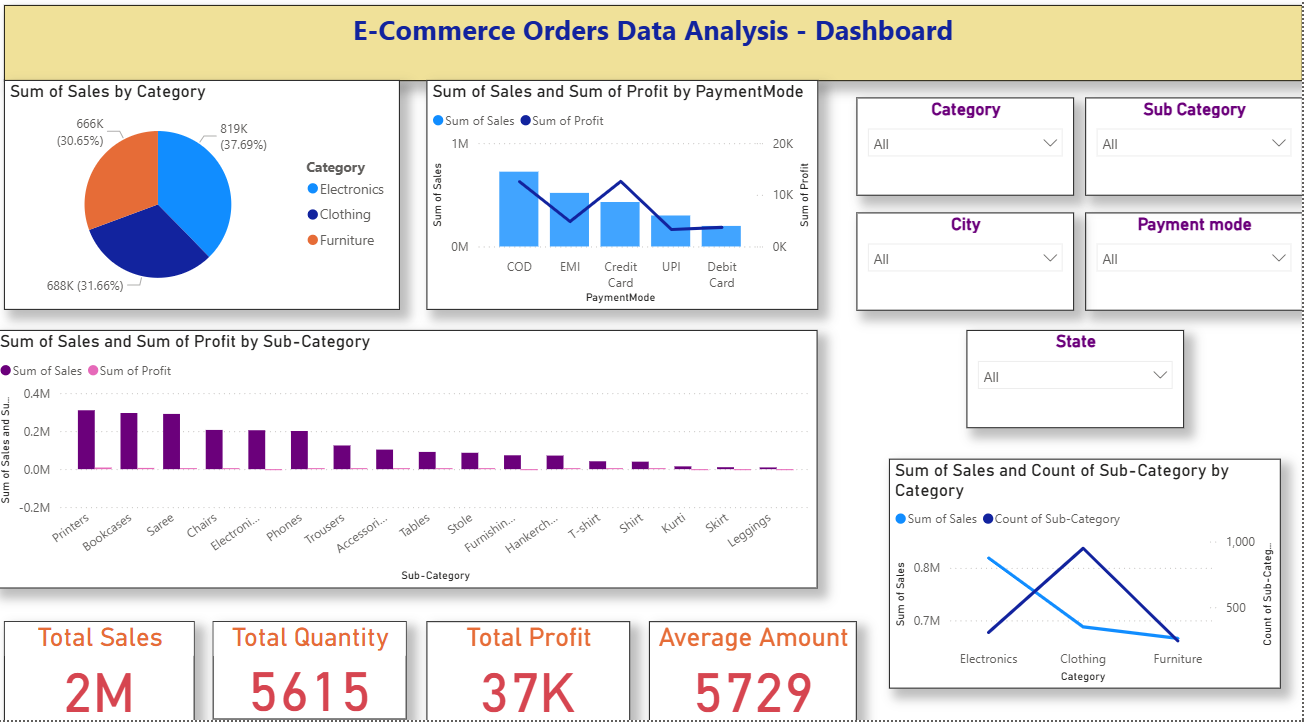

The dashboard page shown, as its layout file describes it:
{"tool":"powerbi","page":{"name":"Main Dashboard","canvas":[1280,720],"ordinal":0},"visuals":[{"type":"textbox","box":[9.6,0,1270.7,79.6],"z":0},{"type":"card","title":"Total Quantity","fields":{"Values":["Sum(Details.Quantity)"]},"box":[214.1,623,189.4,96.1],"z":1000},{"type":"card","title":"Total Sales","fields":{"Values":["Sum(Details.Sales)"]},"box":[9.6,623,186.6,97.4],"z":2000},{"type":"card","title":"Total Profit","fields":{"Values":["Sum(Details.Profit)"]},"box":[422.6,623,199,97.4],"z":3000},{"type":"card","title":"Average Amount","fields":{"Values":["Max(Details.Amount)"]},"box":[640.8,623,203.1,97.4],"z":4000},{"type":"pieChart","fields":{"Category":["Details.Category"],"Y":["Sum(Details.Sales)"]},"box":[9.6,93.3,387,225],"z":5000},{"type":"lineClusteredColumnComboChart","fields":{"Category":["Details.PaymentMode"],"Y":["Sum(Details.Sales)"],"Y2":["Sum(Details.Profit)"]},"box":[422.6,93.3,382.8,225],"z":6000},{"type":"lineClusteredColumnComboChart","fields":{"Category":["Details.Sub-Category"],"Y":["Sum(Details.Sales)","Sum(Details.Profit)"]},"box":[0,337.6,805.5,252.5],"z":7000},{"type":"slicer","title":"Category","fields":{"Values":["Details.Category"]},"box":[843.9,109.8,212.7,96.1],"z":8000},{"type":"slicer","title":"Payment mode","fields":{"Values":["Details.PaymentMode"]},"box":[1067.6,222.3,212.7,96.1],"z":9000},{"type":"slicer","title":"Sub Category","fields":{"Values":["Details.Sub-Category"]},"box":[1067.6,109.8,212.7,96.1],"z":10000},{"type":"slicer","title":"City","fields":{"Values":["Orders.City"]},"box":[843.9,222.3,212.7,96.1],"z":11000},{"type":"slicer","title":"State","fields":{"Values":["Orders.State"]},"box":[950.9,337.6,212.7,96.1],"z":12000},{"type":"clusteredColumnChart","fields":{"Category":["Details.Category"],"Y":["Sum(Details.Profit)"]},"box":[901.5,448.7,312.9,260.7],"z":13000}]}

Visuals, with their boxes in screenshot pixels (x1, y1, x2, y2), scaled from the page's 1280x720 canvas onto the 1307x722 screenshot:
textbox: left=10, top=0, right=1306, bottom=80
"Total Quantity" card: left=219, top=625, right=412, bottom=721
"Total Sales" card: left=10, top=625, right=200, bottom=721
"Total Profit" card: left=432, top=625, right=635, bottom=721
"Average Amount" card: left=654, top=625, right=862, bottom=721
pieChart - Details.Category x Sum(Details.Sales): left=10, top=94, right=405, bottom=319
lineClusteredColumnComboChart - Details.PaymentMode x Sum(Details.Sales): left=432, top=94, right=822, bottom=319
lineClusteredColumnComboChart - Details.Sub-Category x Sum(Details.Sales): left=0, top=339, right=822, bottom=592
"Category" slicer: left=862, top=110, right=1079, bottom=206
"Payment mode" slicer: left=1090, top=223, right=1306, bottom=319
"Sub Category" slicer: left=1090, top=110, right=1306, bottom=206
"City" slicer: left=862, top=223, right=1079, bottom=319
"State" slicer: left=971, top=339, right=1188, bottom=435
clusteredColumnChart - Details.Category x Sum(Details.Profit): left=921, top=450, right=1240, bottom=711
